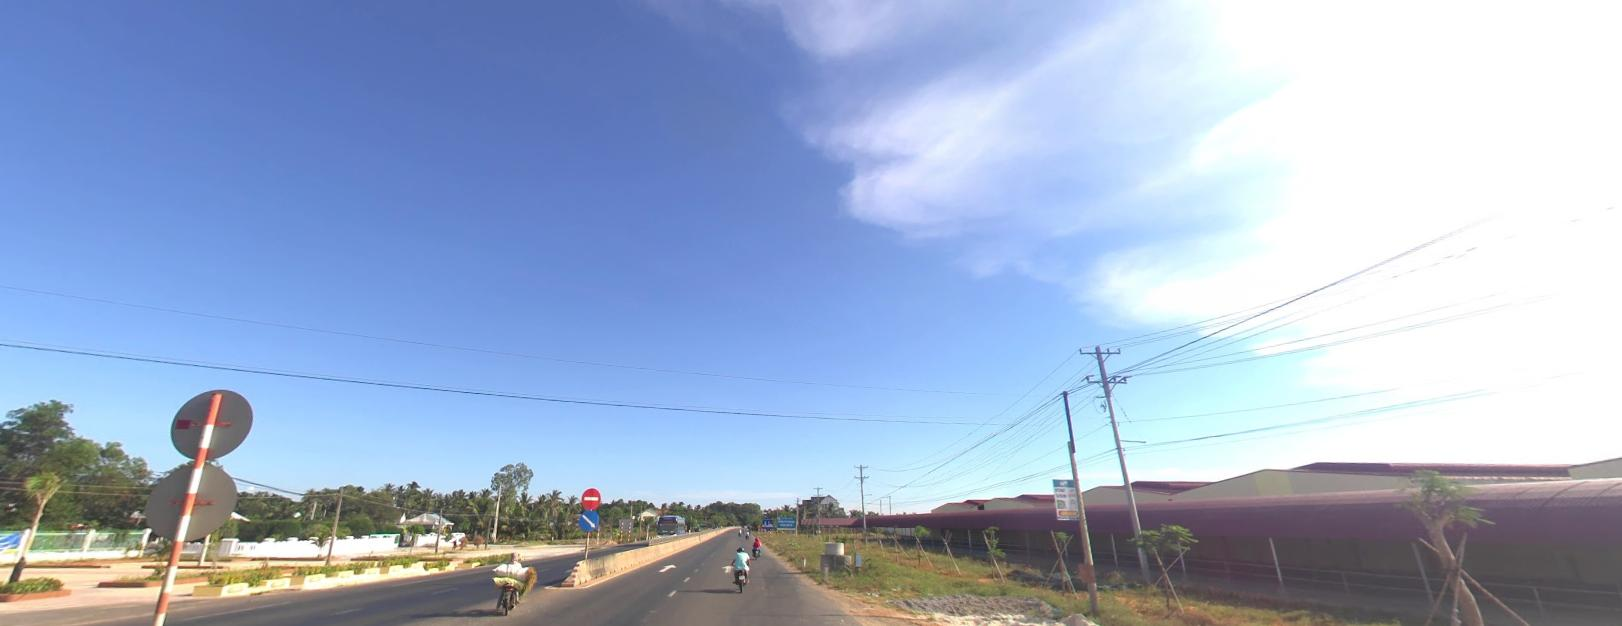Cam nguoc chieu: (580, 486, 601, 508)
Hieu lenh: (578, 508, 601, 531)
